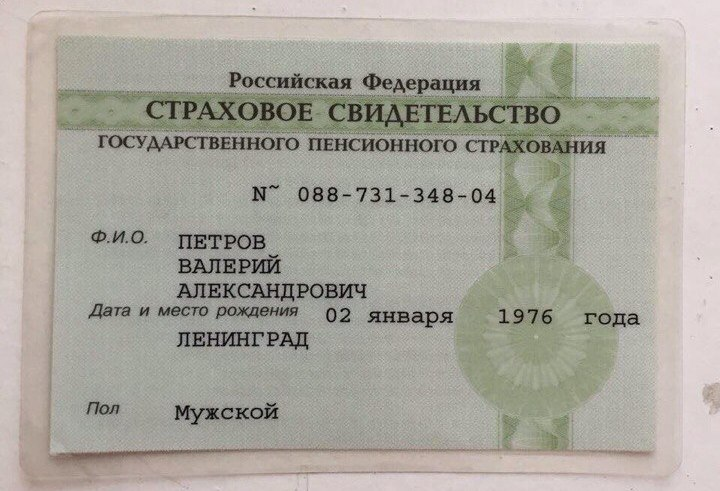text: (321, 303, 643, 330), (289, 178, 507, 209), (172, 279, 374, 304), (173, 325, 312, 352), (169, 401, 282, 426), (175, 254, 288, 278), (173, 231, 269, 252)
